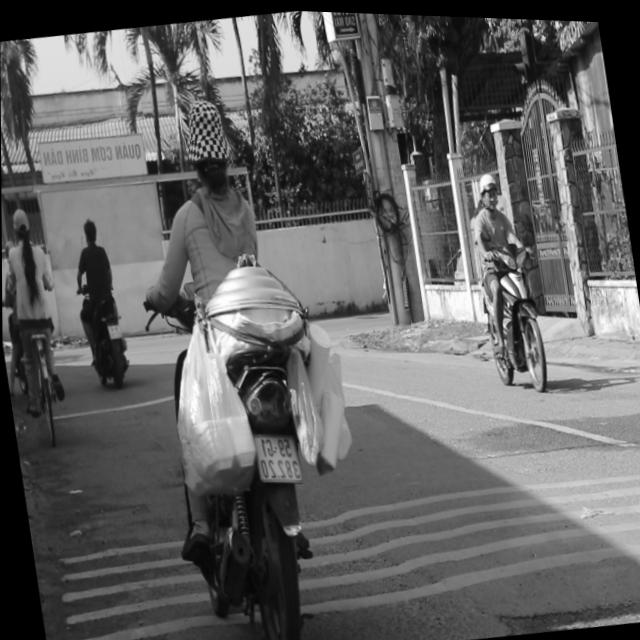helmet: (477, 166, 502, 209)
licenseplate: (109, 71, 388, 640), (462, 161, 555, 394)
motorcyclist: (178, 88, 236, 190)
nohelmet: (254, 429, 302, 482)
